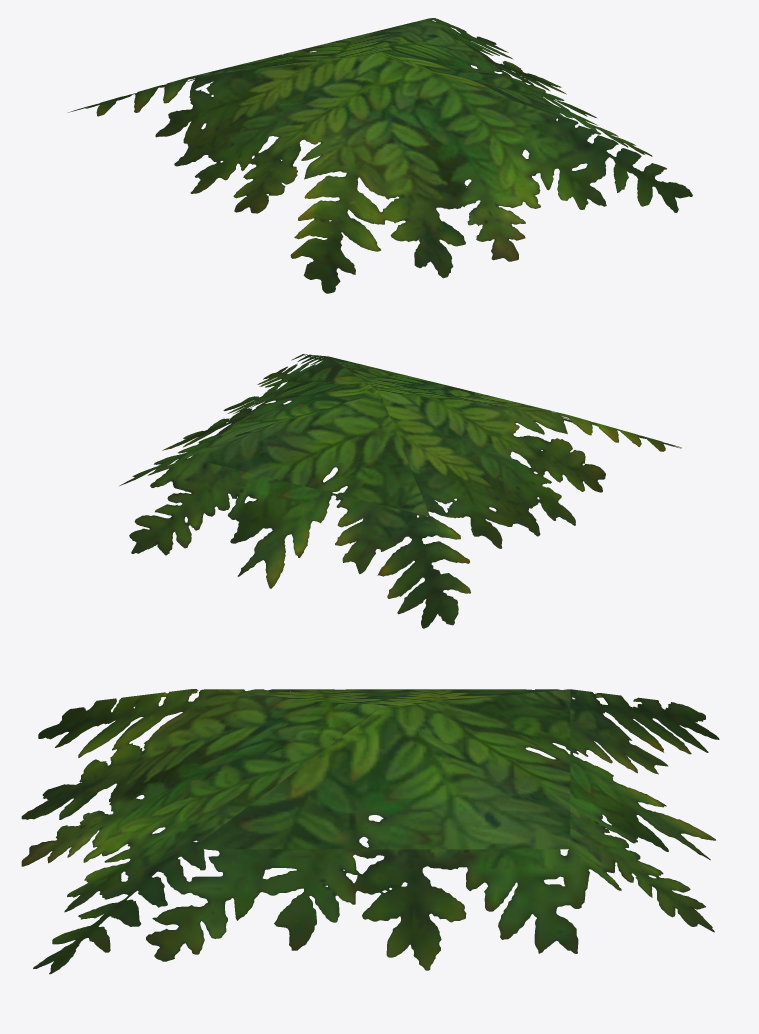
File: fb_chun_gm02_55_57_3087out.fbx
3 renders of one model, top to bottom at view 1: azimuth 30°, elevation 25°; view 2: azimuth 150°, elevation 25°; view 3: azimuth 270°, elevation 25°, orthographic. The views are drawn at different scales.
Parts seen in each view (by area): view 1: fb_chun_gm02; view 2: fb_chun_gm02; view 3: fb_chun_gm02.
Part boxes in pixels (<box>): fb_chun_gm02: <box>68,18,692,293</box>; fb_chun_gm02: <box>119,354,681,628</box>; fb_chun_gm02: <box>21,689,719,974</box>.
Size of the model in its own units: 1.75 by 0.414 by 1.75.
